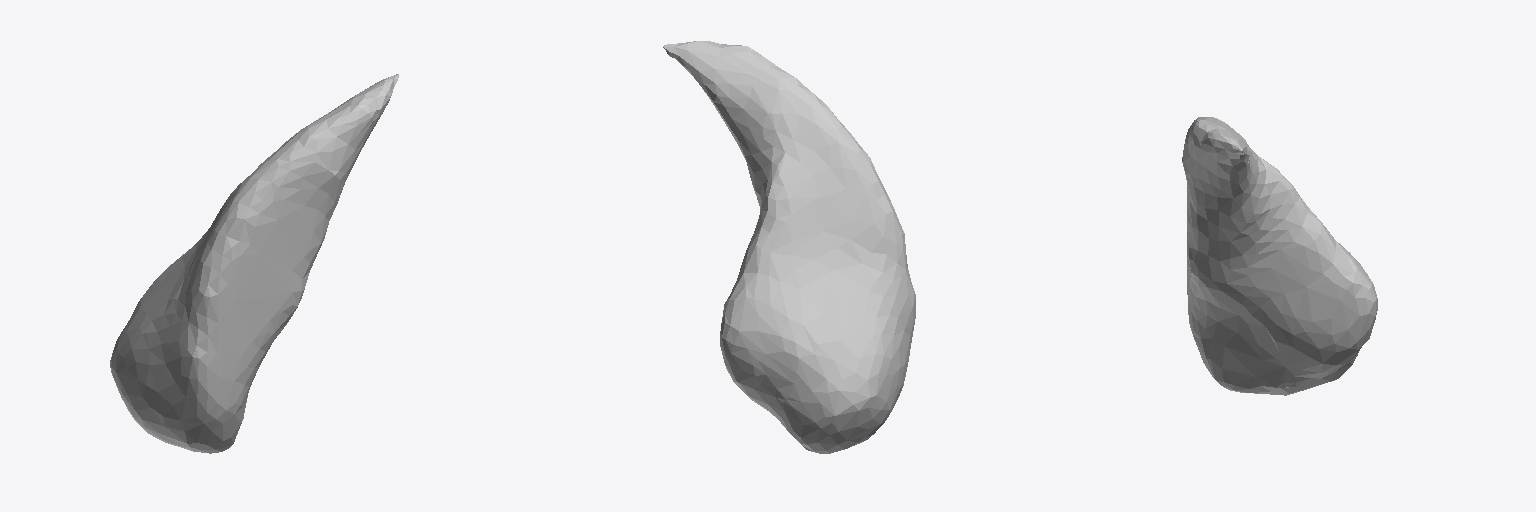
Rendered from R-Amygdala.obj.
3 views of the same model, side by side, from view 1: azimuth 30°, elevation 25°; view 2: azimuth 150°, elevation 25°; view 3: azimuth 270°, elevation 25° (orthographic).
Parts seen in each view (by area): view 1: R-amygdala_amygdala.001; view 2: R-amygdala_amygdala.001; view 3: R-amygdala_amygdala.001.
Boxes of the visible parts, x1,y1,x2,y2 form: R-amygdala_amygdala.001: [110, 74, 398, 453]; R-amygdala_amygdala.001: [663, 41, 915, 453]; R-amygdala_amygdala.001: [1182, 117, 1377, 395].
Bounding box in the file's own units: 22.36 × 29.15 × 15.26.